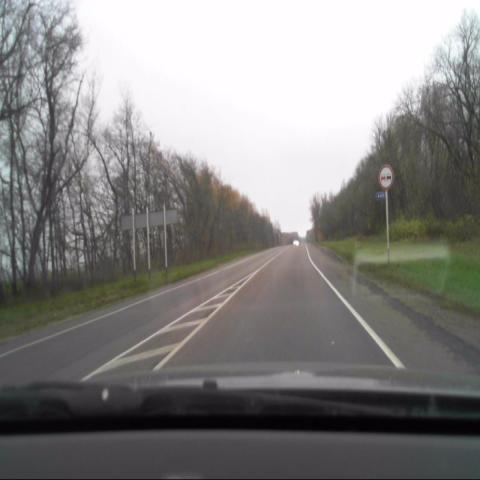3_20: (378, 165, 394, 190)
